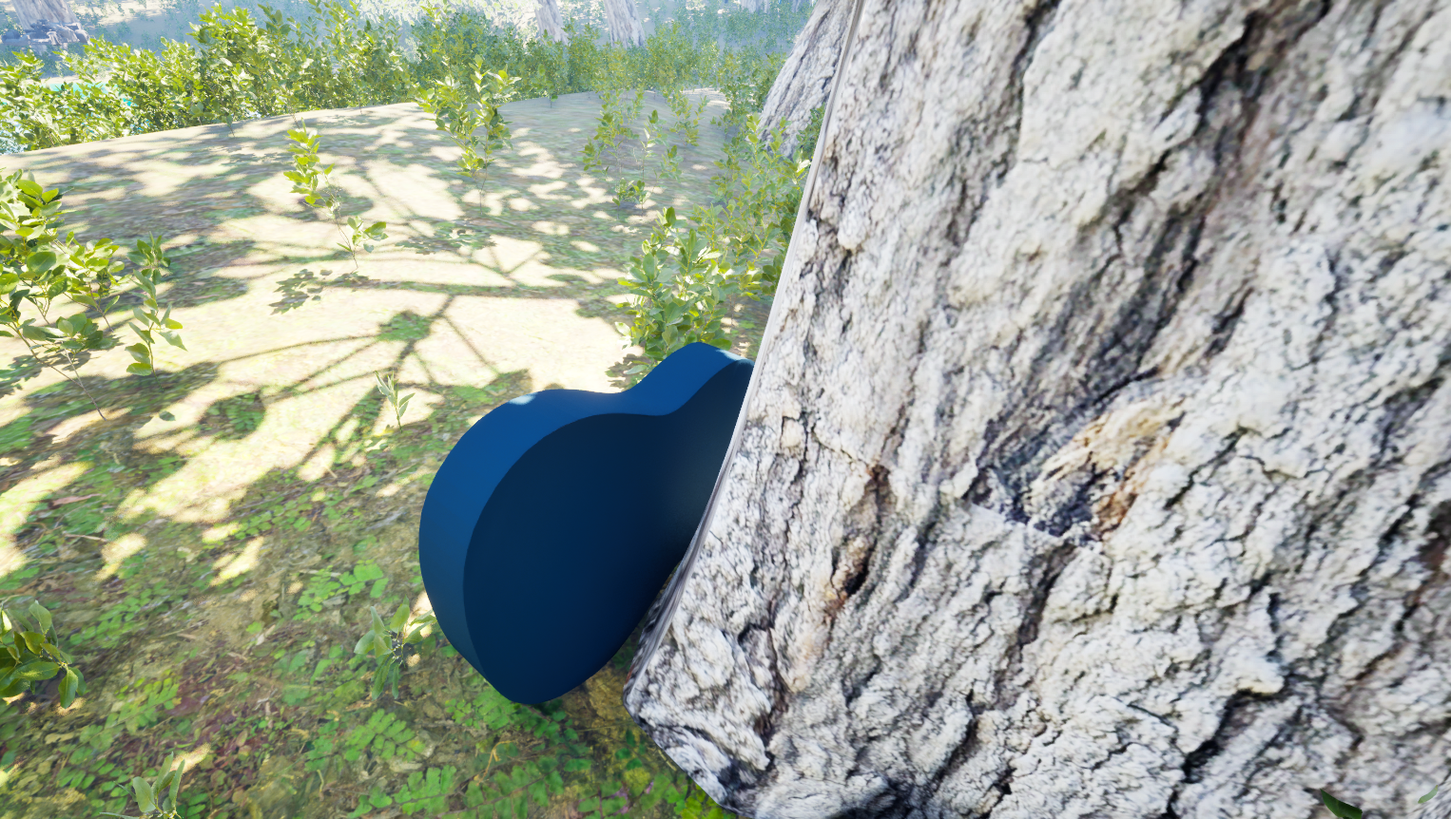Guitar: (363, 213, 1171, 767)
